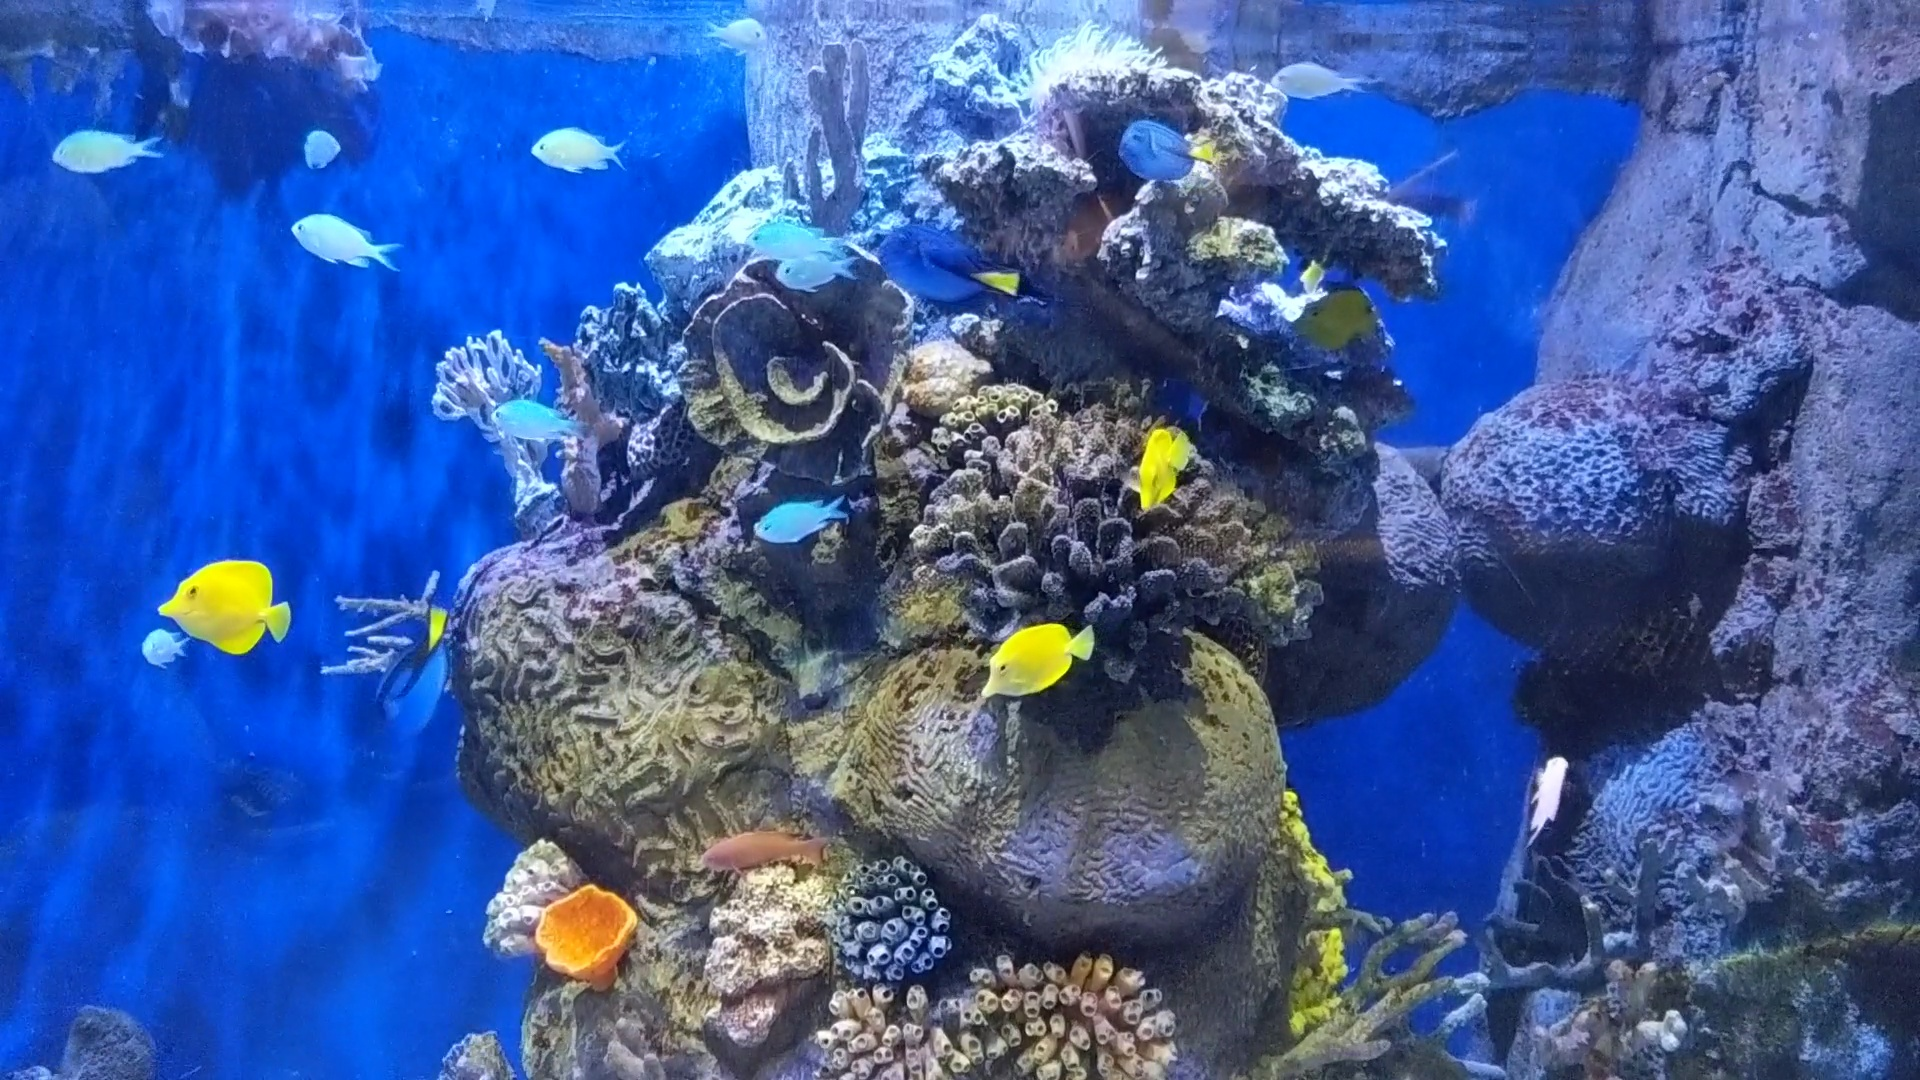blue tang surgeonfish: (858, 195, 1043, 336), (367, 607, 473, 738), (1105, 102, 1238, 191)
damselfish: (282, 196, 404, 286), (516, 111, 638, 189), (40, 115, 182, 181), (738, 476, 853, 553), (468, 382, 582, 450), (1258, 51, 1367, 113), (745, 208, 841, 258), (781, 241, 869, 291), (127, 618, 194, 674), (298, 125, 348, 165)
pink fish: (1509, 738, 1586, 849)
saddle butterfly fish: (137, 553, 294, 665), (955, 622, 1097, 708), (1121, 422, 1203, 514)
